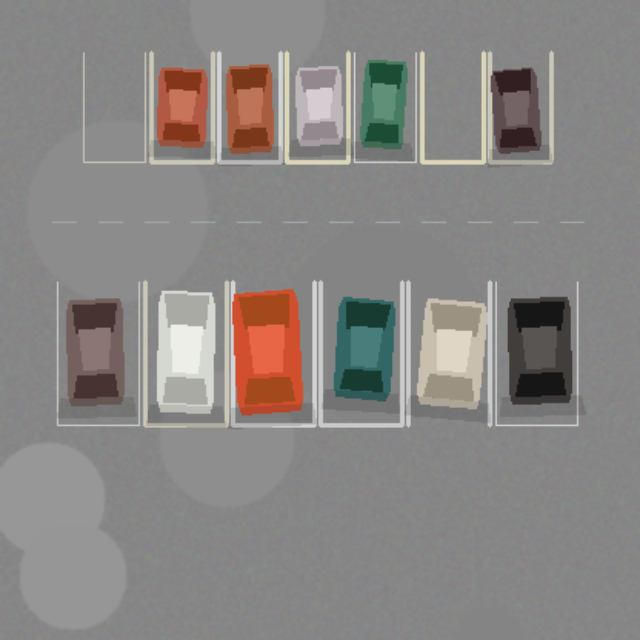space-empty: (83, 52, 145, 162), (422, 52, 483, 162)
space-occupied: (232, 282, 314, 425), (320, 282, 402, 425), (495, 282, 577, 425), (57, 282, 138, 425), (145, 282, 226, 425), (408, 282, 489, 425), (218, 52, 280, 162), (286, 52, 348, 162), (489, 52, 551, 162), (151, 52, 212, 162), (354, 52, 415, 162)
